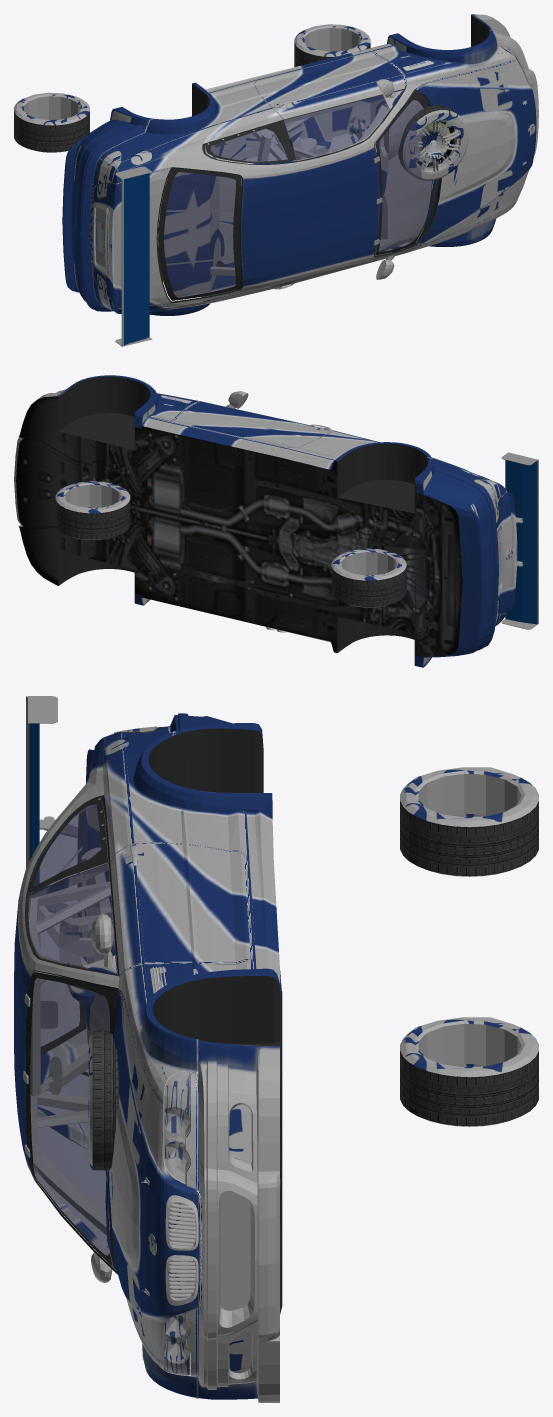
The model's file is bmw-m3-gtr-nfsmw.fbx.
3 renders of one model, top to bottom at view 1: azimuth 30°, elevation 25°; view 2: azimuth 150°, elevation 25°; view 3: azimuth 270°, elevation 25°, orthographic. The views are drawn at different scales.
Visible parts, largest first — view 1: body_f, base_b, interior, body_i, body_g, body_o, body_j, body_k, base_a, body_d, body_e, front8 (+11 smaller); view 2: body_h, body_a, body_g, body_f, body_j, body_i, front8, front_tire, body_o, front16, front14, body_e (+5 smaller); view 3: body_f, body_g, base_b, interior, body_a, body_k, body_i, front8, front_tire, body_o, base_a, body_e (+13 smaller).
Part boxes in pixels (left/top/right/bottom): body_f: left=63, top=31, right=536, bottom=235; base_b: left=164, top=95, right=432, bottom=297; interior: left=164, top=89, right=432, bottom=297; body_i: left=79, top=31, right=536, bottom=315; body_g: left=62, top=14, right=538, bottom=315; body_o: left=95, top=30, right=515, bottom=315; body_j: left=124, top=173, right=149, bottom=345; body_k: left=74, top=37, right=512, bottom=311; base_a: left=158, top=89, right=434, bottom=300; body_d: left=156, top=88, right=442, bottom=303; body_e: left=90, top=30, right=516, bottom=314; front8: left=14, top=111, right=89, bottom=152; body_h: left=16, top=396, right=462, bottom=656; body_a: left=58, top=376, right=428, bottom=665; body_g: left=14, top=378, right=498, bottom=667; body_f: left=86, top=375, right=506, bottom=576; body_j: left=505, top=460, right=537, bottom=624; body_i: left=253, top=463, right=517, bottom=653; front8: left=331, top=567, right=406, bottom=607; front_tire: left=55, top=500, right=130, bottom=539; body_o: left=141, top=391, right=503, bottom=667; front16: left=339, top=550, right=398, bottom=575; front14: left=63, top=483, right=122, bottom=507; body_e: left=82, top=379, right=506, bottom=614; body_f: left=14, top=723, right=280, bottom=1253; body_g: left=24, top=713, right=282, bottom=1402; base_b: left=28, top=804, right=115, bottom=1255; interior: left=27, top=800, right=117, bottom=1255; body_a: left=148, top=728, right=282, bottom=1337; body_k: left=18, top=739, right=251, bottom=1373; body_i: left=14, top=727, right=257, bottom=1379; front8: left=400, top=801, right=538, bottom=876; front_tire: left=400, top=1051, right=538, bottom=1126; body_o: left=84, top=726, right=272, bottom=1399; base_a: left=27, top=799, right=118, bottom=1269; body_e: left=86, top=726, right=256, bottom=1398.
Bounding box in the file's own units: 592 × 240 × 314.
